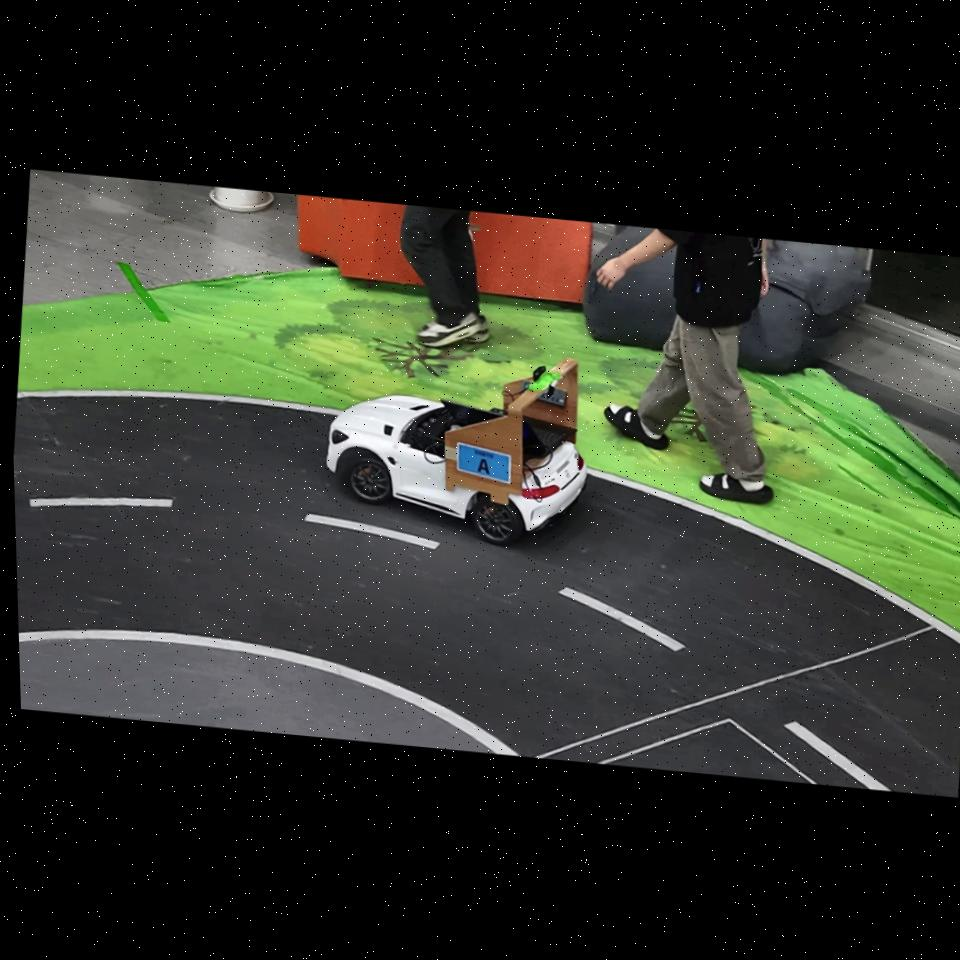broken_line: (558, 587, 686, 652), (783, 721, 892, 791), (304, 513, 441, 550), (29, 497, 173, 508)
